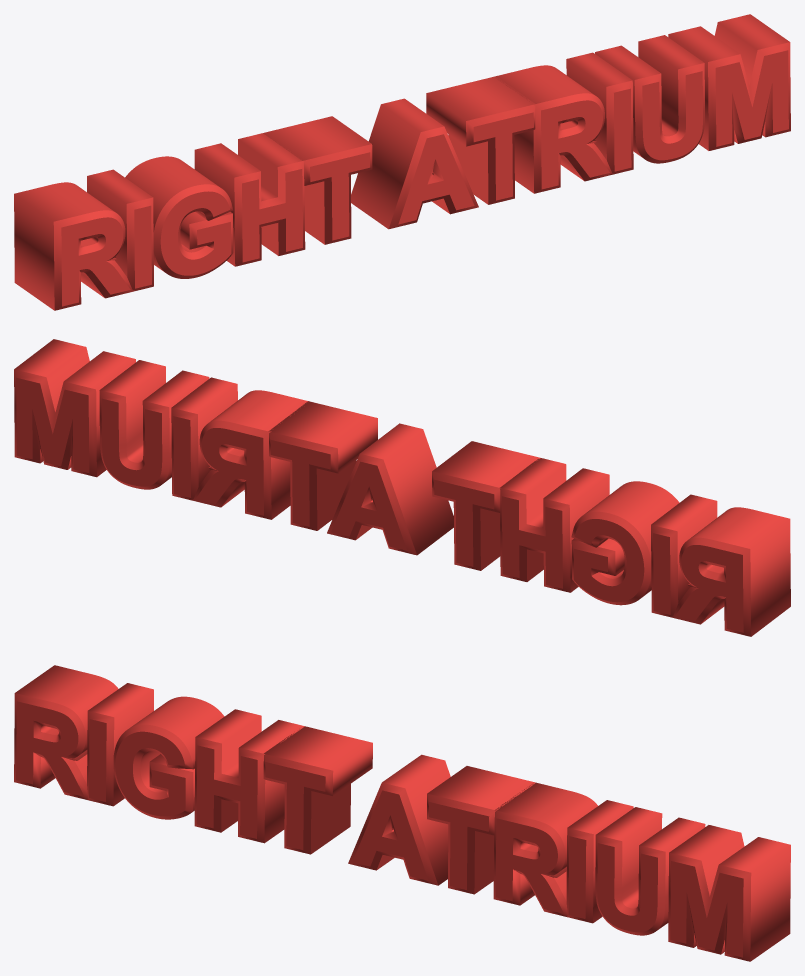
The model's file is R.ATRIUM.fbx.
3 renders of one model, top to bottom at view 1: azimuth 30°, elevation 25°; view 2: azimuth 150°, elevation 25°; view 3: azimuth 330°, elevation 25°, orthographic.
Visible parts, largest first — view 1: Text; view 2: Text; view 3: Text.
Boxes of the visible parts, box(x1,y1,x2,y2) form: Text: box(14, 14, 790, 310); Text: box(14, 339, 790, 636); Text: box(14, 665, 790, 961).
Size of the model in its own units: 5.06 by 0.6068 by 0.5489.
